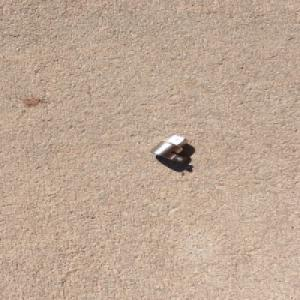MetalPart: (148, 134, 190, 164)
